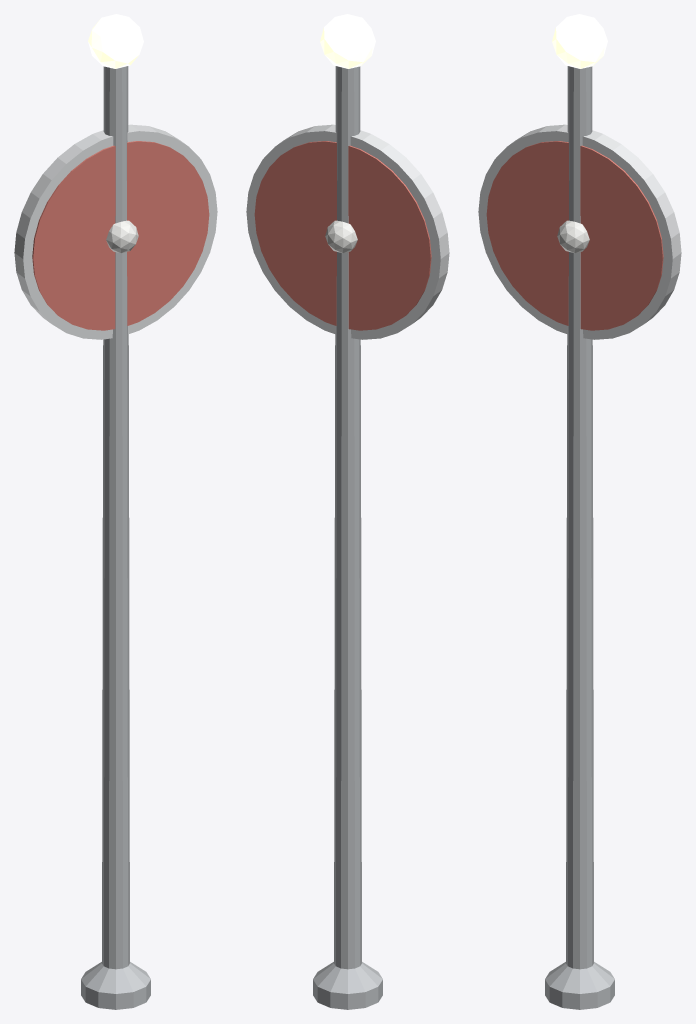
File: bay_pole_1.glb
The picture shows the model from 3 angles, left to right: view 1: azimuth 30°, elevation 25°; view 2: azimuth 150°, elevation 25°; view 3: azimuth 330°, elevation 25°; orthographic projection.
Visible parts, largest first — view 1: bay_pole_1_steel, bay_pole_1_sign_r, bay_pole_1_chrome, bay_pole_1_lamp_glass, bay_pole_1_paint_w; view 2: bay_pole_1_steel, bay_pole_1_sign_r, bay_pole_1_chrome, bay_pole_1_lamp_glass, bay_pole_1_paint_w; view 3: bay_pole_1_steel, bay_pole_1_sign_r, bay_pole_1_chrome, bay_pole_1_lamp_glass, bay_pole_1_paint_w.
Part boxes in pixels (x1,y1,x2,y2): bay_pole_1_steel: (81,66,150,1009); bay_pole_1_sign_r: (32,141,209,330); bay_pole_1_chrome: (14,124,217,339); bay_pole_1_lamp_glass: (88,14,143,68); bay_pole_1_paint_w: (106,220,138,253); bay_pole_1_steel: (313,66,382,1009); bay_pole_1_sign_r: (254,141,431,330); bay_pole_1_chrome: (246,124,449,339); bay_pole_1_lamp_glass: (320,14,375,68); bay_pole_1_paint_w: (325,220,357,253); bay_pole_1_steel: (545,66,614,1009); bay_pole_1_sign_r: (486,141,663,330); bay_pole_1_chrome: (478,124,681,339); bay_pole_1_lamp_glass: (552,14,607,68); bay_pole_1_paint_w: (557,220,589,253).
Size of the model in its own units: 0.64 by 3.08 by 0.2.
